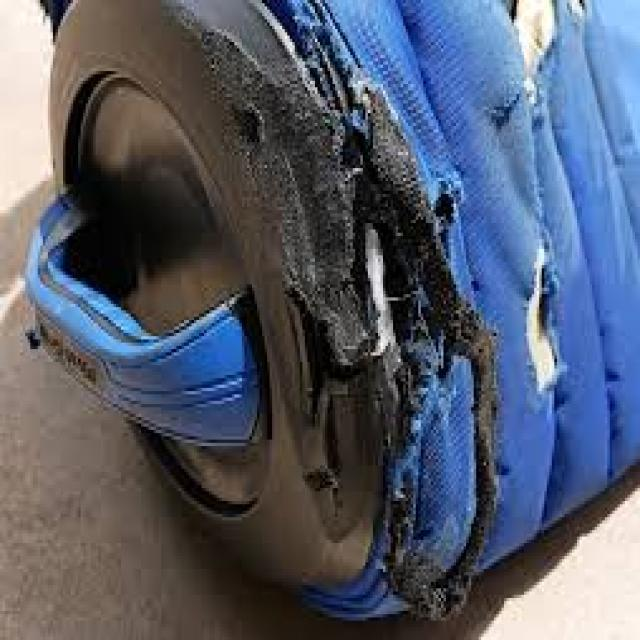Damage-bag: (201, 0, 499, 617), (489, 0, 555, 140), (521, 241, 559, 388)
